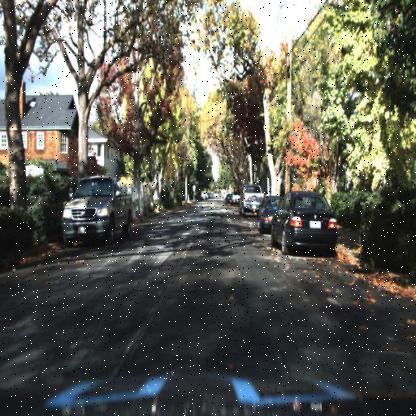car: (62, 178, 131, 246), (270, 190, 335, 247), (238, 182, 266, 220), (256, 192, 274, 236), (241, 183, 259, 217), (226, 194, 234, 208)
